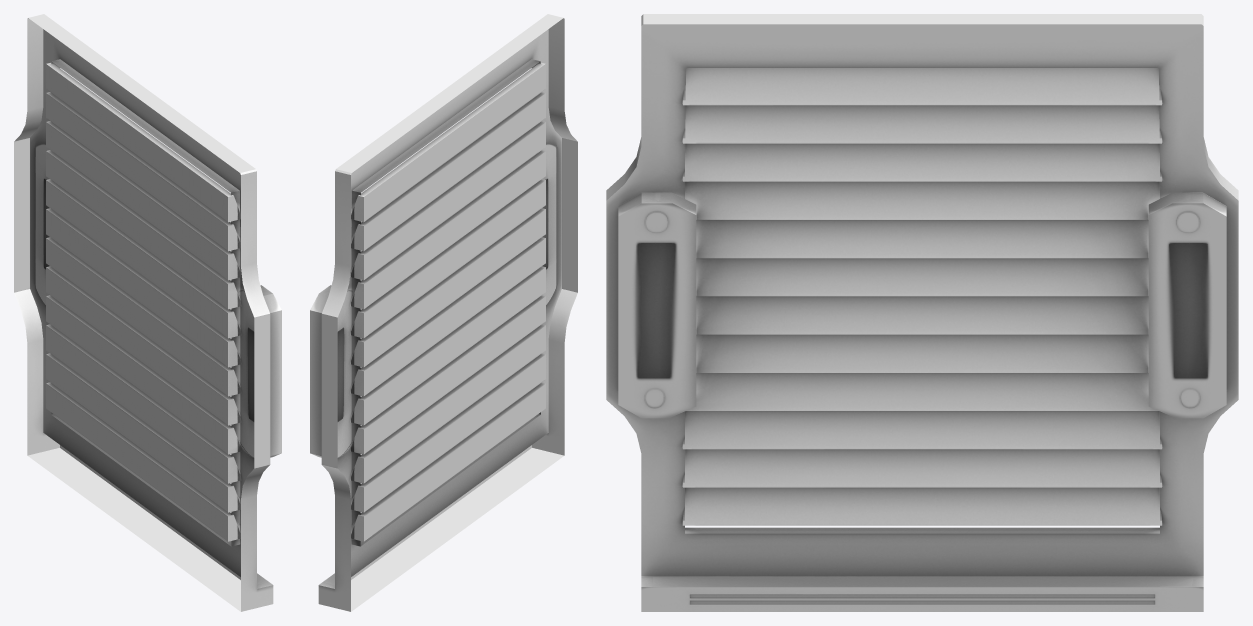
Rendered from Vent.fbx.
3 views of the same model, side by side, from view 1: azimuth 30°, elevation 25°; view 2: azimuth 150°, elevation 25°; view 3: azimuth 270°, elevation 25° (orthographic). The views are drawn at different scales.
Parts seen in each view (by area): view 1: Vent_low; view 2: Vent_low; view 3: Vent_low.
Part boxes in pixels (x1=…): Vent_low: x1=14, y1=14, x2=281, y2=611; Vent_low: x1=310, y1=14, x2=577, y2=611; Vent_low: x1=606, y1=14, x2=1238, y2=611.
Size of the model in its own units: 33.62 by 430 by 433.
